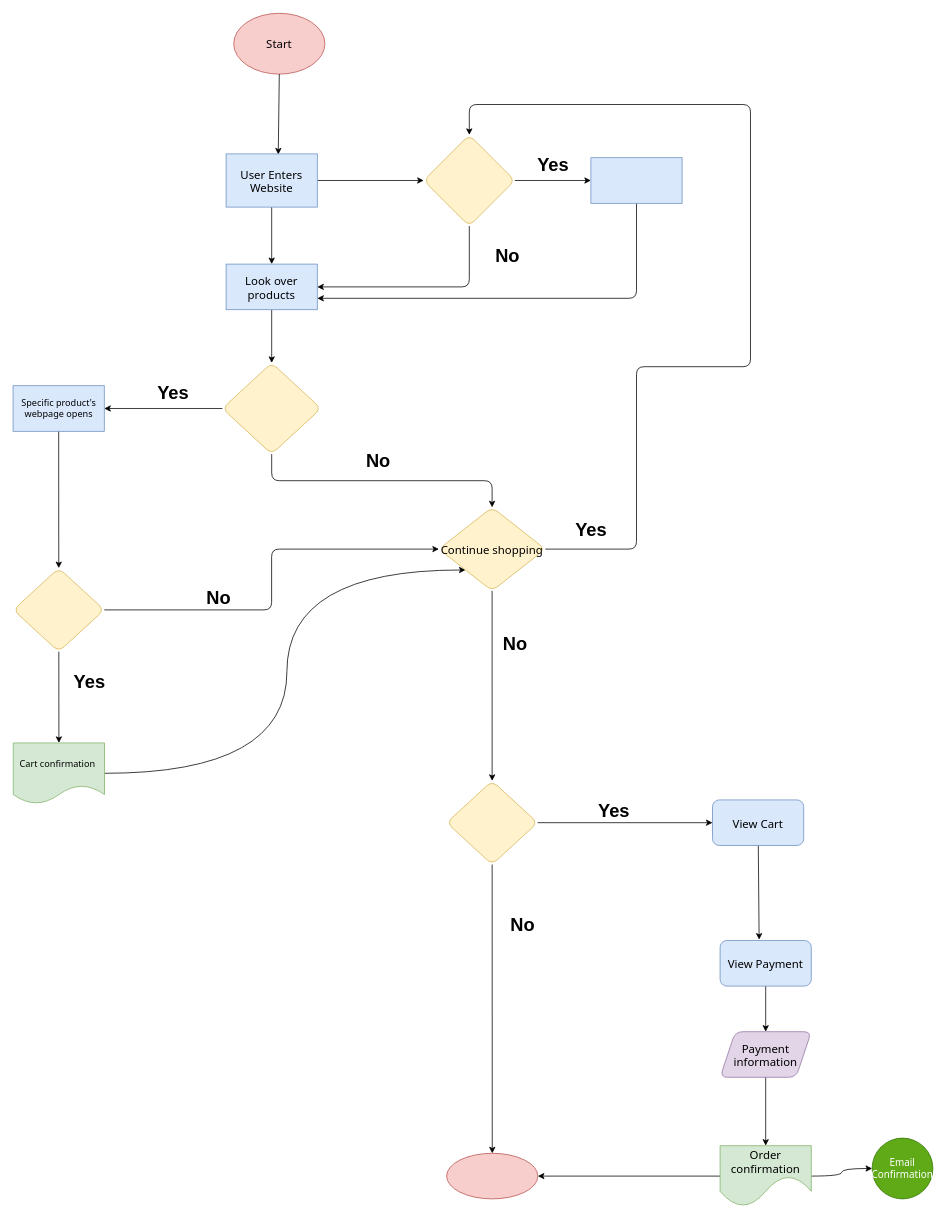
Image size: 947x1220. Some labels were removed from this diagram. The box of each missing label's shape, as (x1, y1, x2, y2) in pixels:
Add item to cart: (13, 567, 104, 652)
Checkout: (446, 780, 538, 864)
Click to view specific product: (222, 362, 321, 454)
End: (446, 1153, 538, 1199)
Provide input of search to website: (590, 157, 682, 203)
Search for a product: (423, 134, 515, 226)
